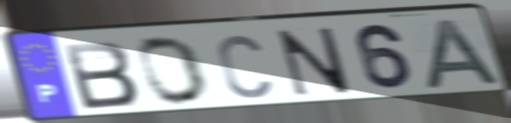6: (354, 22, 415, 92)
A: (423, 17, 507, 91)
B: (60, 39, 142, 112)
C: (214, 32, 274, 101)
N: (274, 25, 354, 99)
O: (136, 34, 212, 108)
